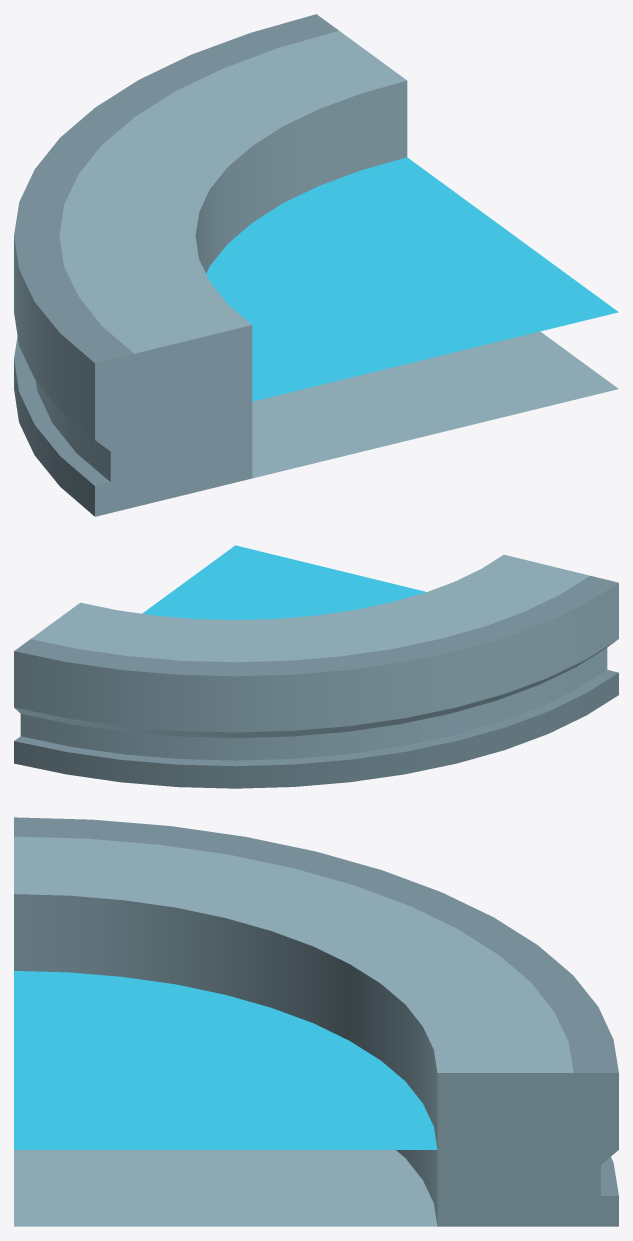
File: fountainCurved.obj
The picture shows the model from 3 angles, top to bottom: view 1: azimuth 30°, elevation 25°; view 2: azimuth 150°, elevation 25°; view 3: azimuth 270°, elevation 25°; orthographic projection. The views are drawn at different scales.
Parts seen in each view (by area): view 1: fountainCurved; view 2: fountainCurved; view 3: fountainCurved.
Boxes of the visible parts, x1=… form: fountainCurved: x1=14, y1=14, x2=618, y2=516; fountainCurved: x1=14, y1=545, x2=618, y2=788; fountainCurved: x1=14, y1=817, x2=618, y2=1226.
Size of the model in its own units: 1 by 0.28 by 1.
